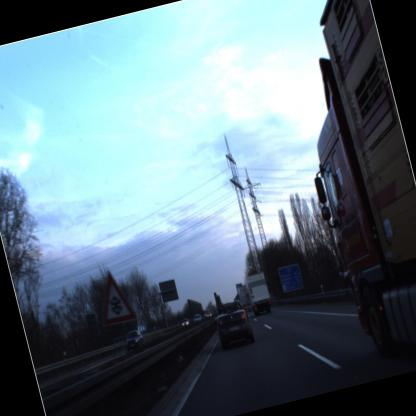danger: (88, 258, 147, 346)
